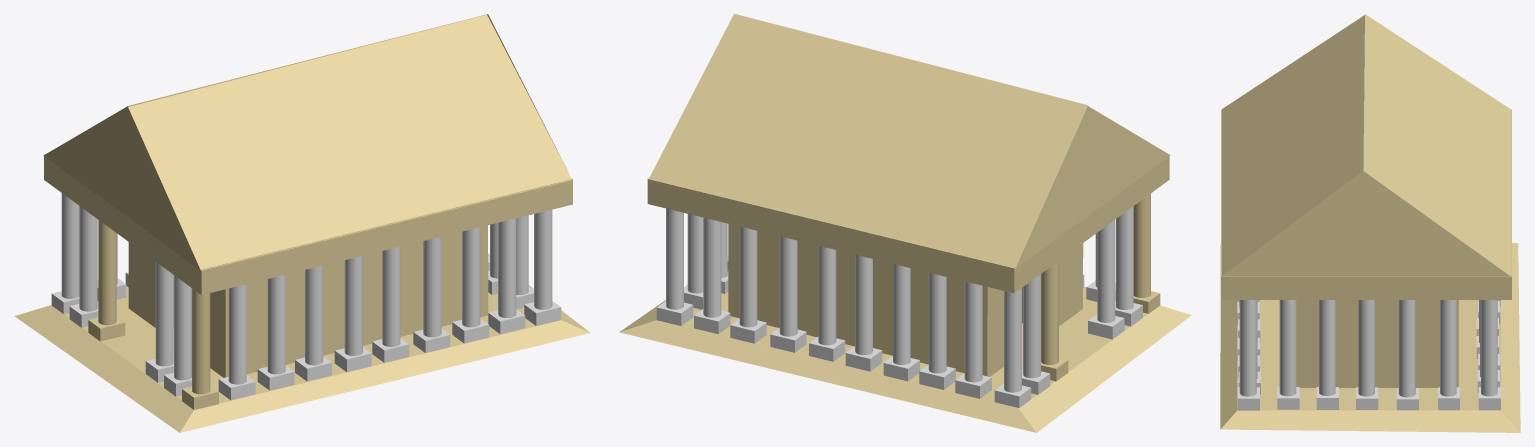
The model's file is Greek_Mausoleum_3_compressed.glb.
The picture shows the model from 3 angles, left to right: view 1: azimuth 30°, elevation 25°; view 2: azimuth 150°, elevation 25°; view 3: azimuth 270°, elevation 25°; orthographic projection. The views are drawn at different scales.
Visible parts, largest first — view 1: pillar.015; view 2: pillar.015; view 3: pillar.015.
Part boxes in pixels (left/top/right/bottom): pillar.015: left=14, top=14, right=589, bottom=432; pillar.015: left=619, top=14, right=1191, bottom=432; pillar.015: left=1220, top=14, right=1520, bottom=432.
Bounding box in the file's own units: 84.36 × 51.24 × 56.42.
